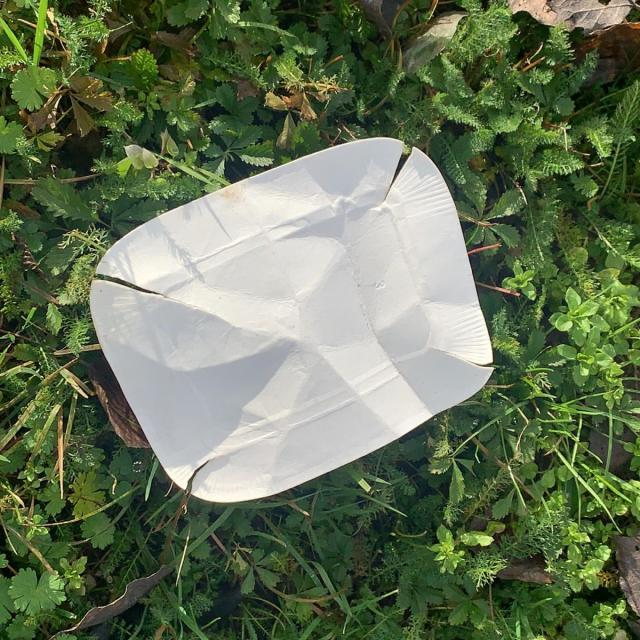Paper: (88, 134, 496, 506)
